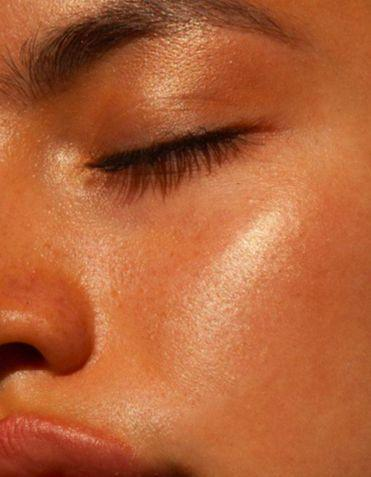Oily-Skin: (17, 266, 111, 345), (167, 36, 290, 81), (222, 224, 329, 268)
